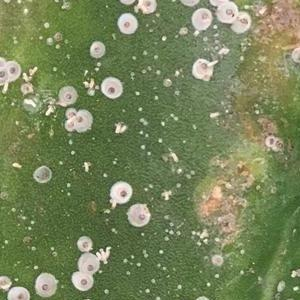Femea: (132, 205, 148, 227), (194, 58, 213, 76), (34, 276, 54, 293), (62, 107, 75, 128), (79, 255, 96, 271), (100, 81, 117, 97), (219, 3, 235, 20), (117, 16, 134, 31), (114, 182, 126, 202), (75, 273, 91, 288), (193, 8, 207, 25), (135, 0, 156, 11), (5, 62, 20, 76), (235, 11, 246, 30), (10, 287, 26, 299), (60, 90, 73, 104), (76, 113, 89, 125), (77, 237, 89, 249), (0, 68, 8, 82), (90, 43, 100, 54)
Linfa: (161, 221, 174, 235), (137, 127, 149, 137), (137, 116, 149, 126), (199, 229, 210, 239), (143, 183, 153, 192), (160, 190, 170, 199), (101, 286, 110, 295), (143, 286, 152, 295), (135, 104, 143, 113), (125, 268, 132, 278), (156, 136, 164, 144), (138, 143, 147, 150), (161, 236, 171, 242), (129, 251, 135, 260), (32, 263, 41, 269), (149, 276, 156, 283), (132, 89, 139, 96), (152, 94, 159, 101), (109, 158, 116, 165), (122, 255, 127, 264), (157, 247, 164, 253), (69, 149, 75, 156), (213, 273, 220, 279), (175, 229, 182, 235), (158, 119, 164, 126), (64, 182, 71, 188), (190, 228, 196, 235), (176, 283, 182, 289), (57, 159, 63, 165), (101, 171, 107, 177), (204, 281, 211, 286), (169, 112, 174, 119), (173, 115, 179, 120), (67, 139, 72, 145), (136, 261, 140, 268)
Macho: (97, 247, 109, 265), (104, 241, 116, 258), (113, 121, 127, 135), (19, 96, 35, 107), (167, 150, 178, 164), (27, 63, 38, 75), (43, 105, 55, 115), (80, 159, 88, 173), (206, 111, 222, 118), (205, 64, 220, 71), (1, 80, 8, 94), (87, 76, 94, 88), (11, 161, 23, 168)
